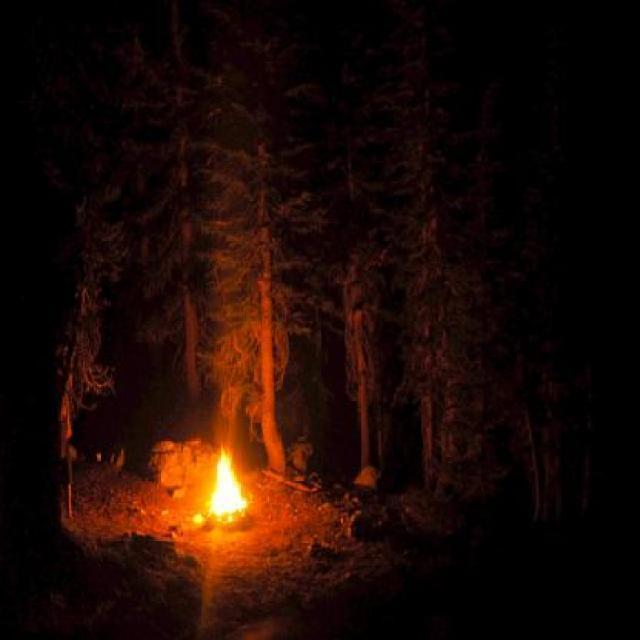fire: (207, 446, 248, 520)
